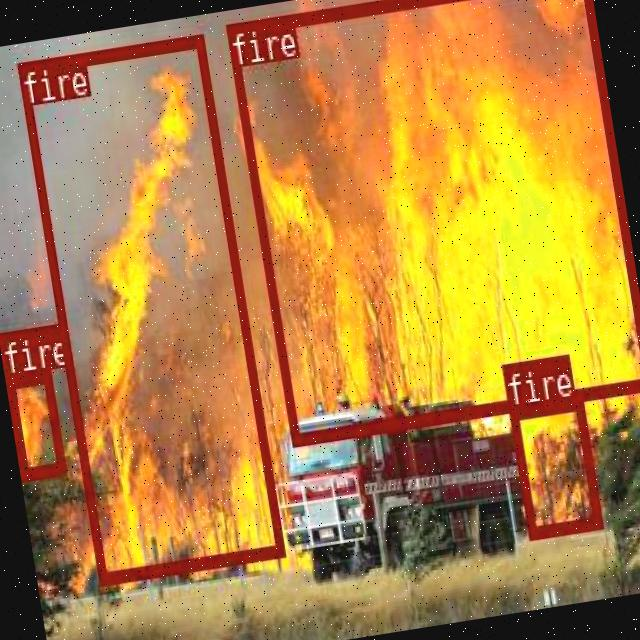fire: (224, 0, 640, 442), (16, 32, 284, 582), (508, 397, 601, 538), (5, 367, 66, 478)
